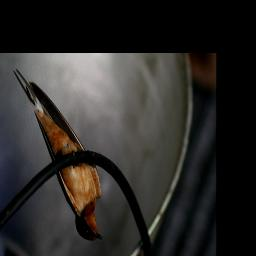Swallow: (9, 67, 107, 246)
